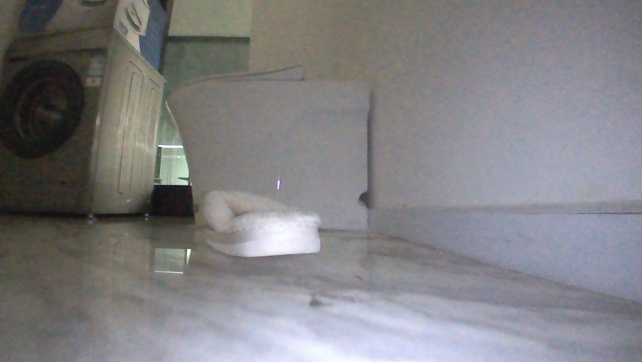shoe: (197, 186, 322, 263)
toilet: (163, 69, 371, 239)
washing_machine: (1, 21, 170, 232)
